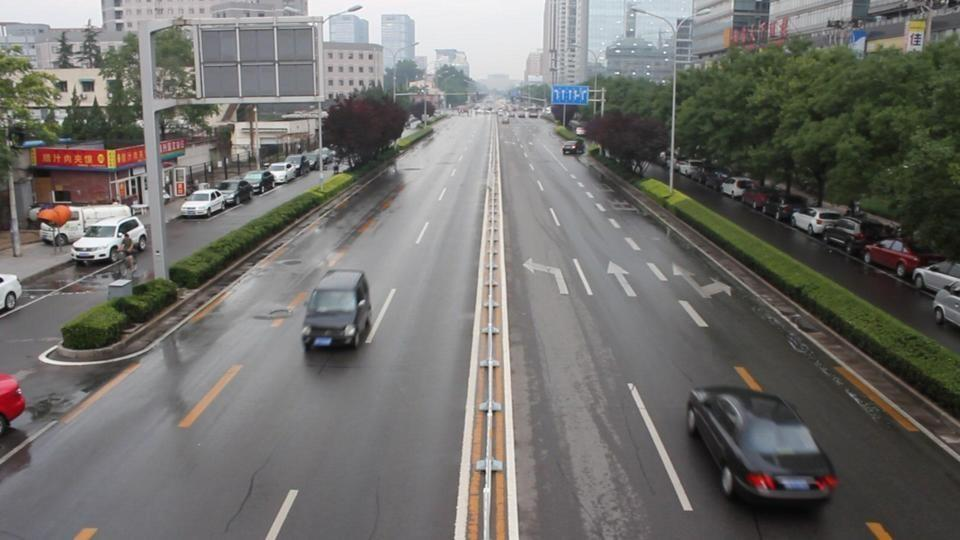car: (685, 384, 840, 512), (300, 270, 373, 352), (863, 237, 948, 282), (821, 215, 903, 261), (70, 223, 139, 265), (790, 207, 846, 237), (912, 261, 960, 296), (0, 373, 27, 435), (38, 210, 82, 247), (763, 194, 811, 224), (180, 189, 227, 218), (932, 282, 960, 329), (212, 178, 254, 207), (32, 203, 75, 226), (271, 155, 309, 180), (240, 170, 278, 195), (0, 273, 23, 313), (740, 186, 772, 211), (721, 177, 753, 199), (267, 162, 297, 184), (562, 140, 581, 156)
